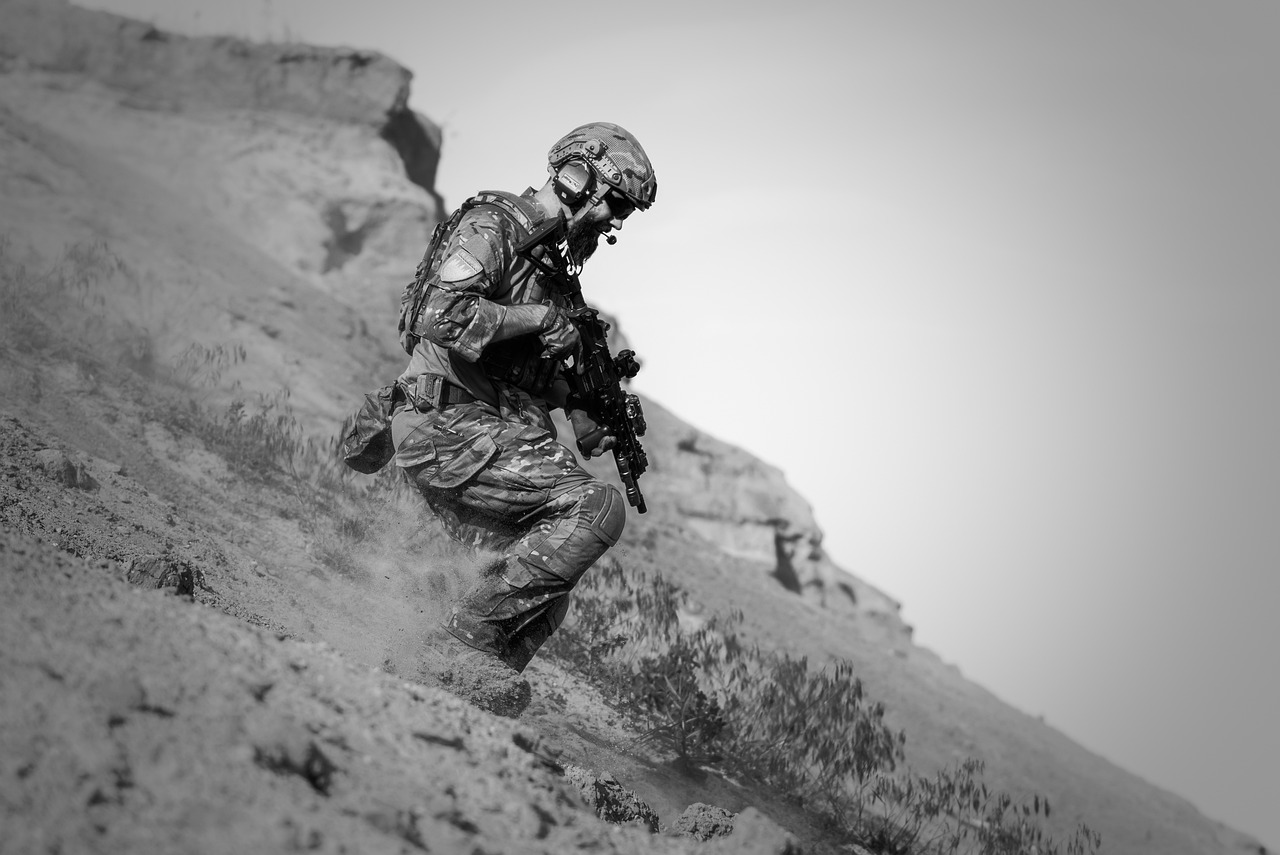gun: (506, 211, 652, 516)
